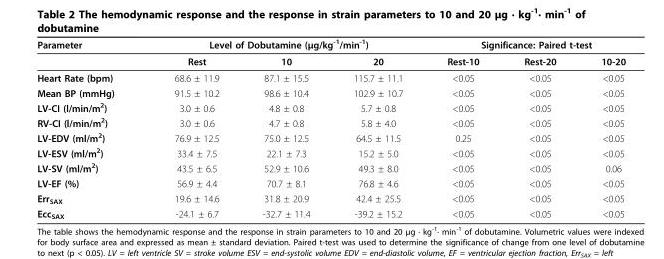table: (36, 37, 624, 219)
table column: (36, 37, 143, 219), (143, 37, 240, 219), (331, 37, 424, 219), (240, 37, 331, 219), (424, 37, 501, 219), (501, 37, 578, 219), (578, 37, 624, 219)
table column header: (36, 37, 624, 69)
table row: (36, 52, 624, 69), (36, 69, 624, 85), (36, 159, 624, 175), (36, 190, 624, 206), (36, 37, 624, 52), (36, 99, 624, 114), (36, 114, 624, 129), (36, 129, 624, 144), (36, 144, 624, 159), (36, 175, 624, 190), (36, 85, 624, 99), (36, 206, 624, 219)
table spanning cell: (143, 37, 424, 52), (36, 37, 143, 69), (424, 37, 624, 52)
